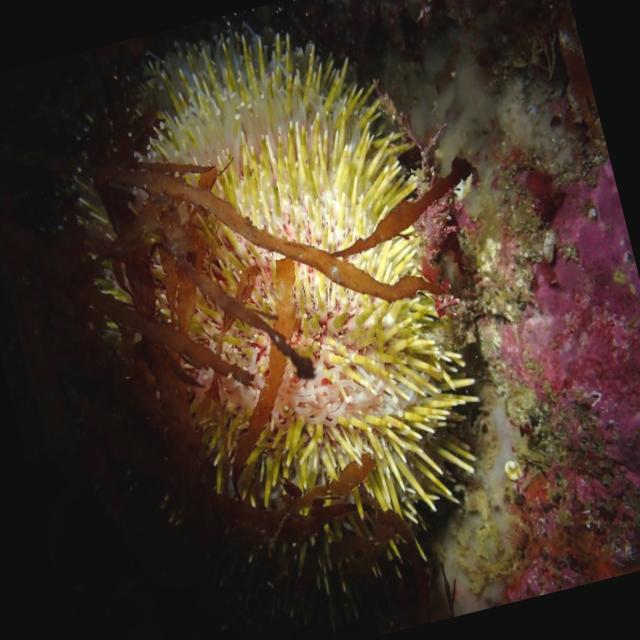Deniz Kestanesi: (22, 0, 526, 639)
